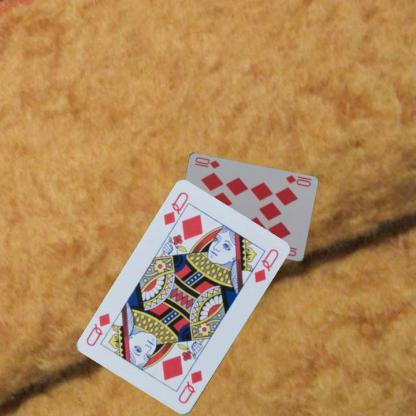10d: (283, 173, 313, 188)
Qd: (160, 189, 192, 234), (175, 368, 204, 405)
